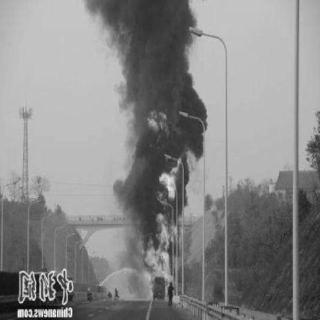Smoke: (123, 1, 199, 107)
